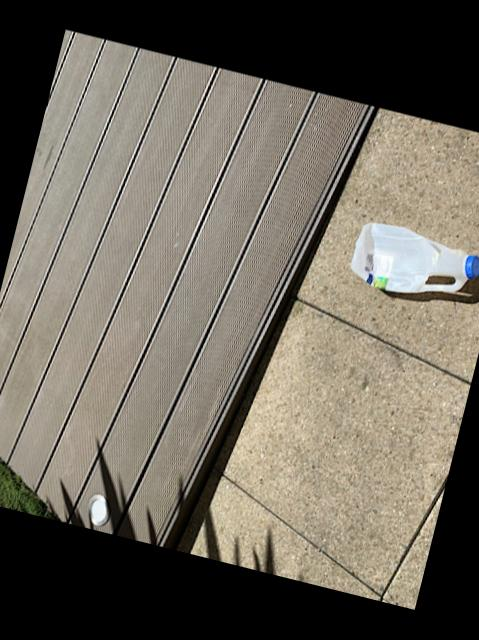plastic: (348, 224, 478, 294)
